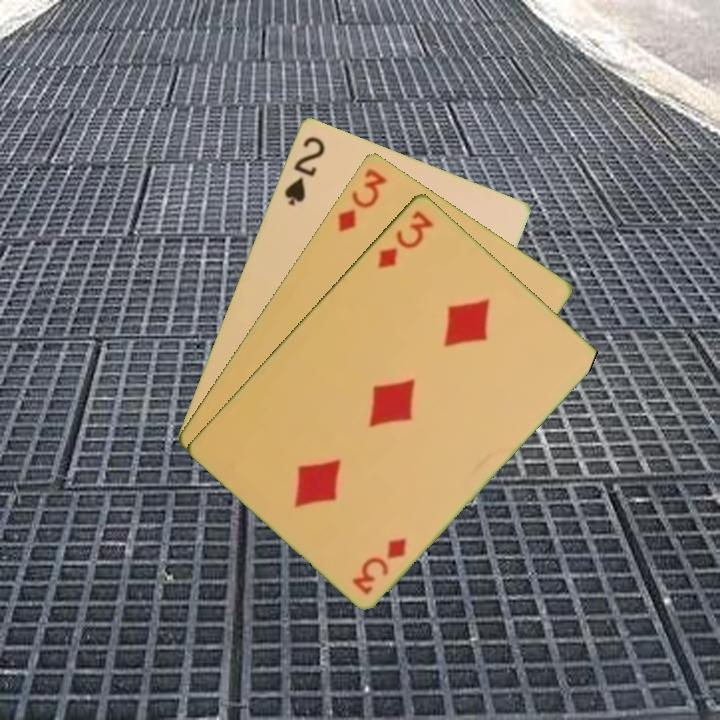2s: (280, 132, 328, 209)
3d: (374, 206, 437, 271), (334, 164, 390, 235), (348, 533, 410, 597)
